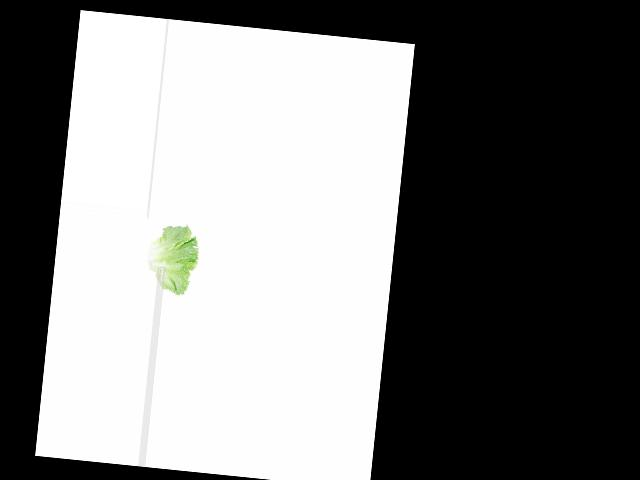lettuce: (143, 222, 200, 293)
